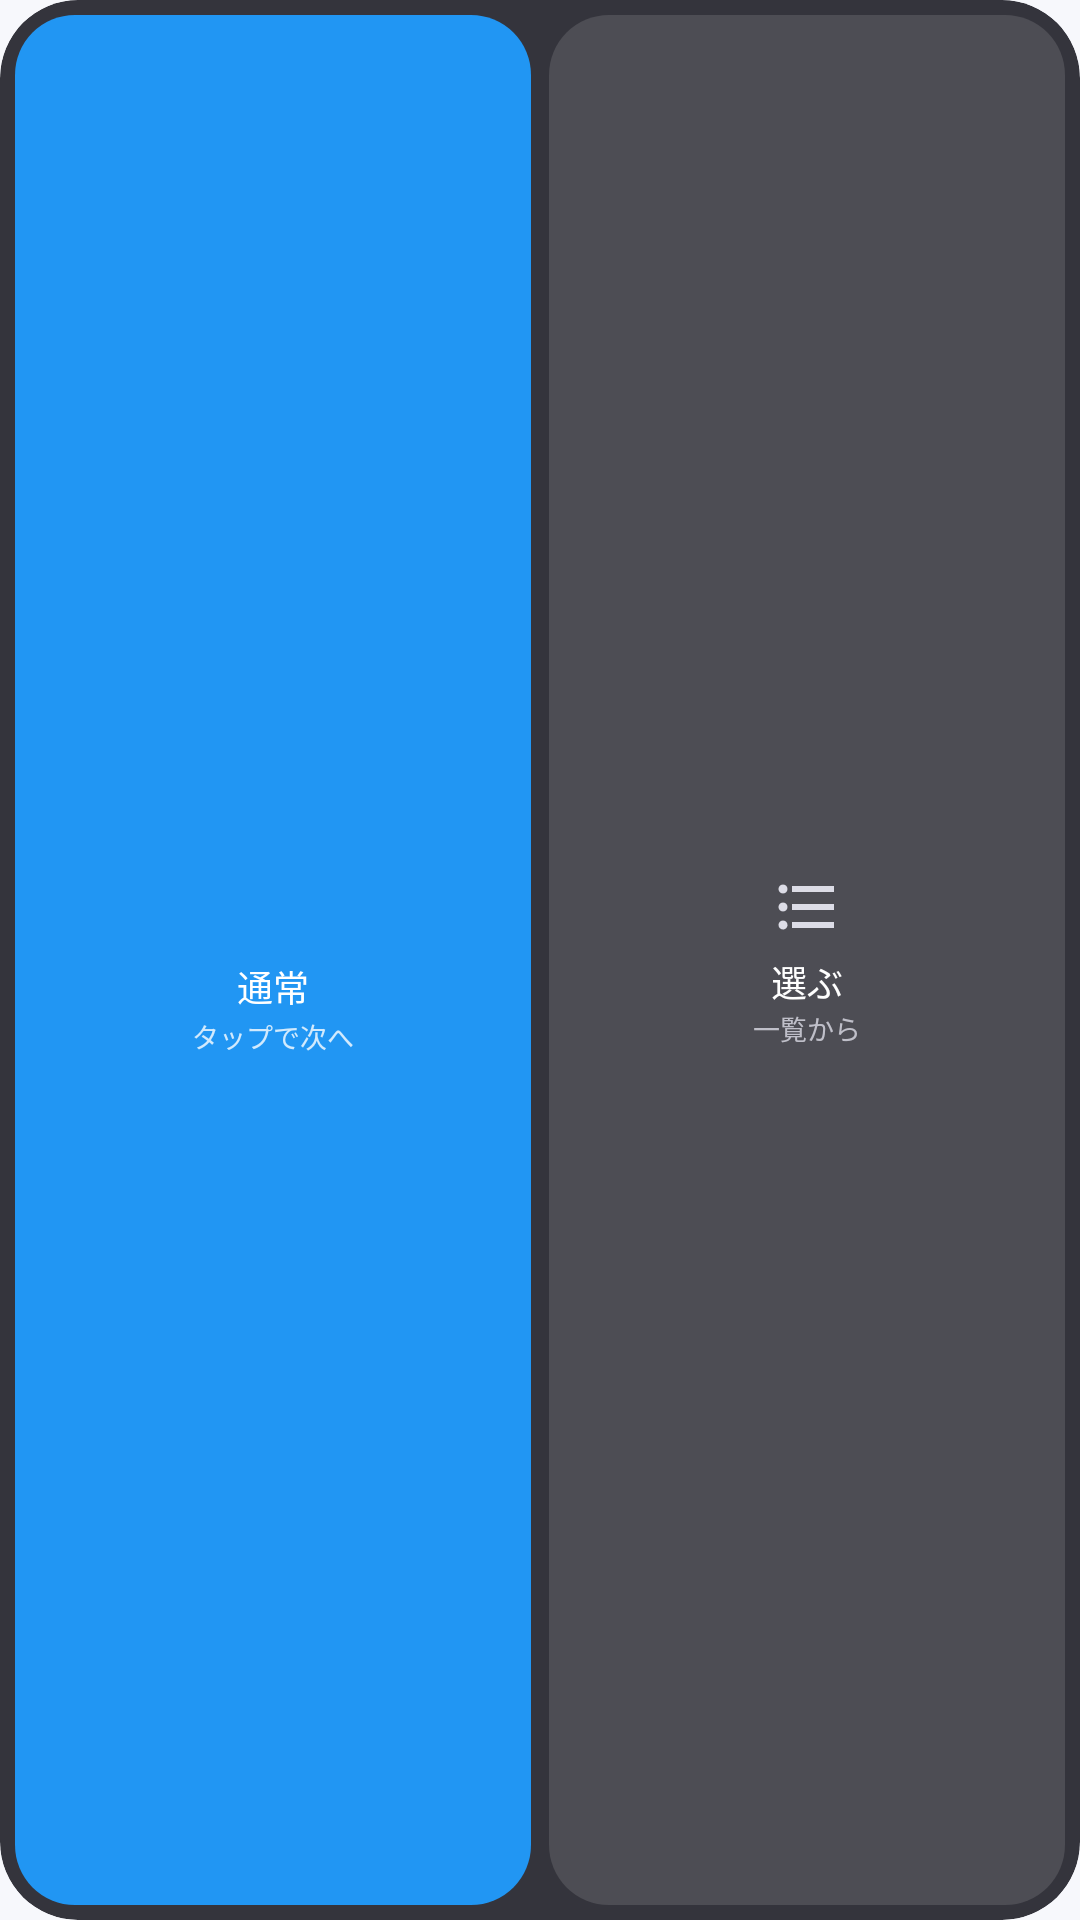

Point at icon controls on the screen. Image size 1080w x 1920h, points as (x,y).
widget list: (806,907)
